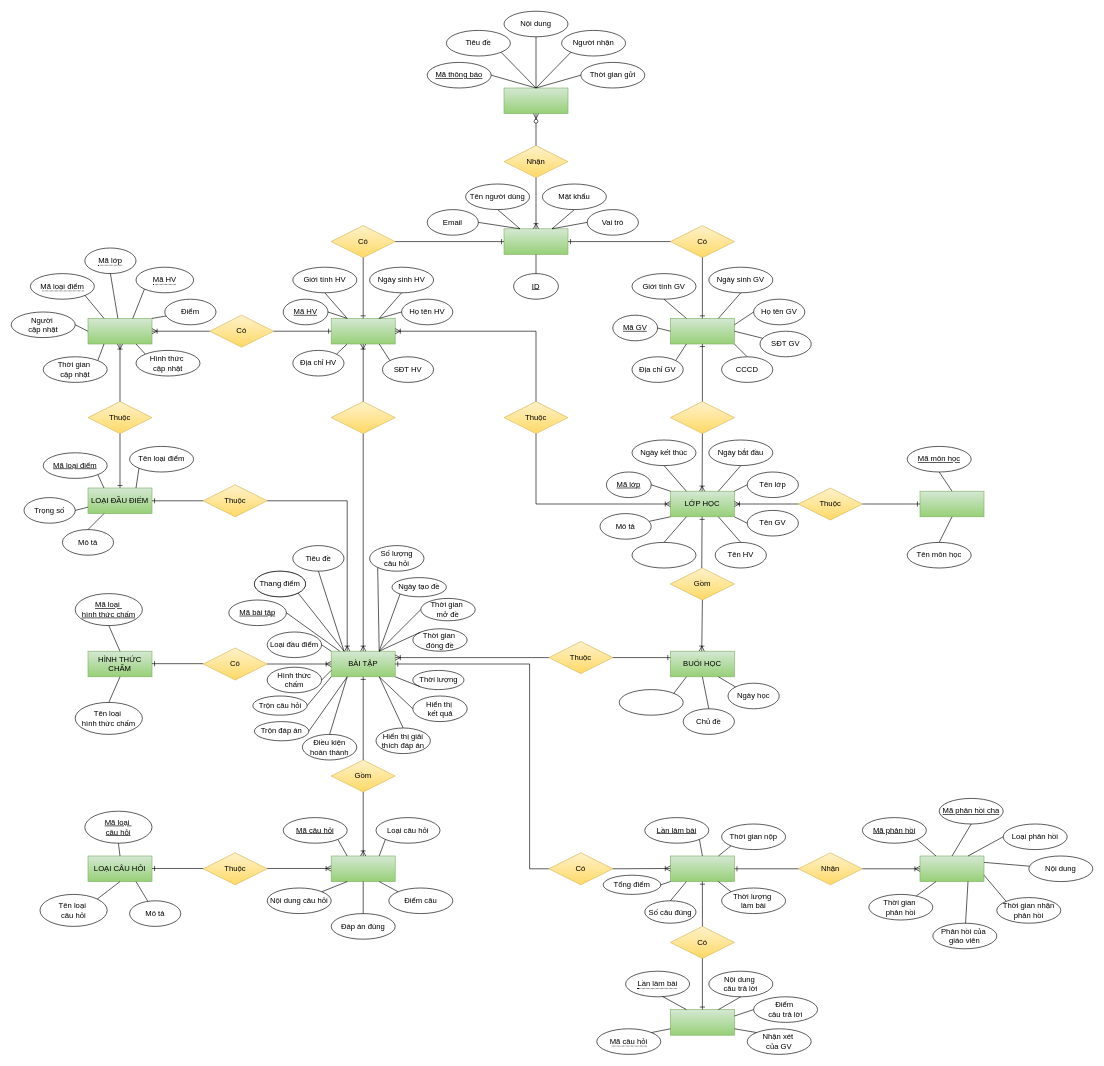
This 1104x1066 diagram has some shape labels left out. The centre of each missing label's shape, as x and y in pixels:
"CHI TIẾT BÀI LÀM" goes at (702,1022).
"CÂU HỎI" goes at (363,868).
"GIÁO VIÊN" goes at (702,331).
"HỌC VIÊN" goes at (363,331).
"KẾT QUẢ BÀI LÀM" goes at (702,868).
"Làm" goes at (363,417).
"Mã buổi học" goes at (651,702).
"MÔN HỌC" goes at (951,504).
"PHẢN HỒI" goes at (951,868).
"Phụ trách" goes at (702,417).
"Số lượng HV" goes at (663,555).
"THÔNG BÁO" goes at (535,100).
"TÀI KHOẢN" goes at (535,241).
"ĐIỂM SỐ" goes at (119,331).
